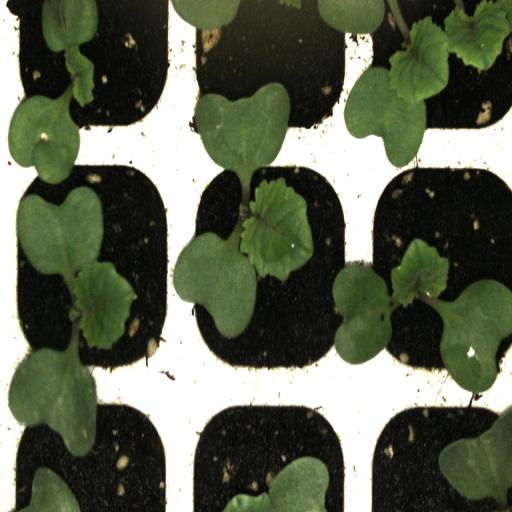Folha: (438, 408, 512, 506), (223, 456, 330, 512), (315, 0, 400, 35), (172, 0, 241, 32)
Germinacao: (180, 140, 358, 390), (4, 141, 178, 389), (357, 139, 512, 395), (0, 0, 180, 137), (361, 0, 512, 134)
